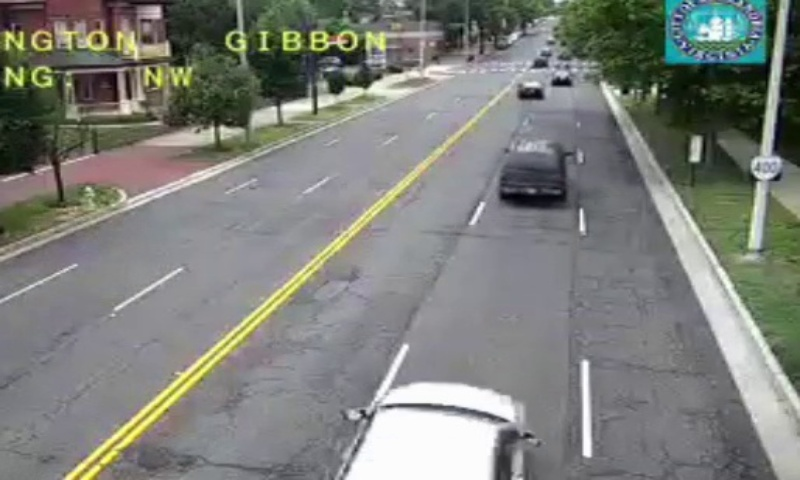car: (499, 141, 568, 200)
